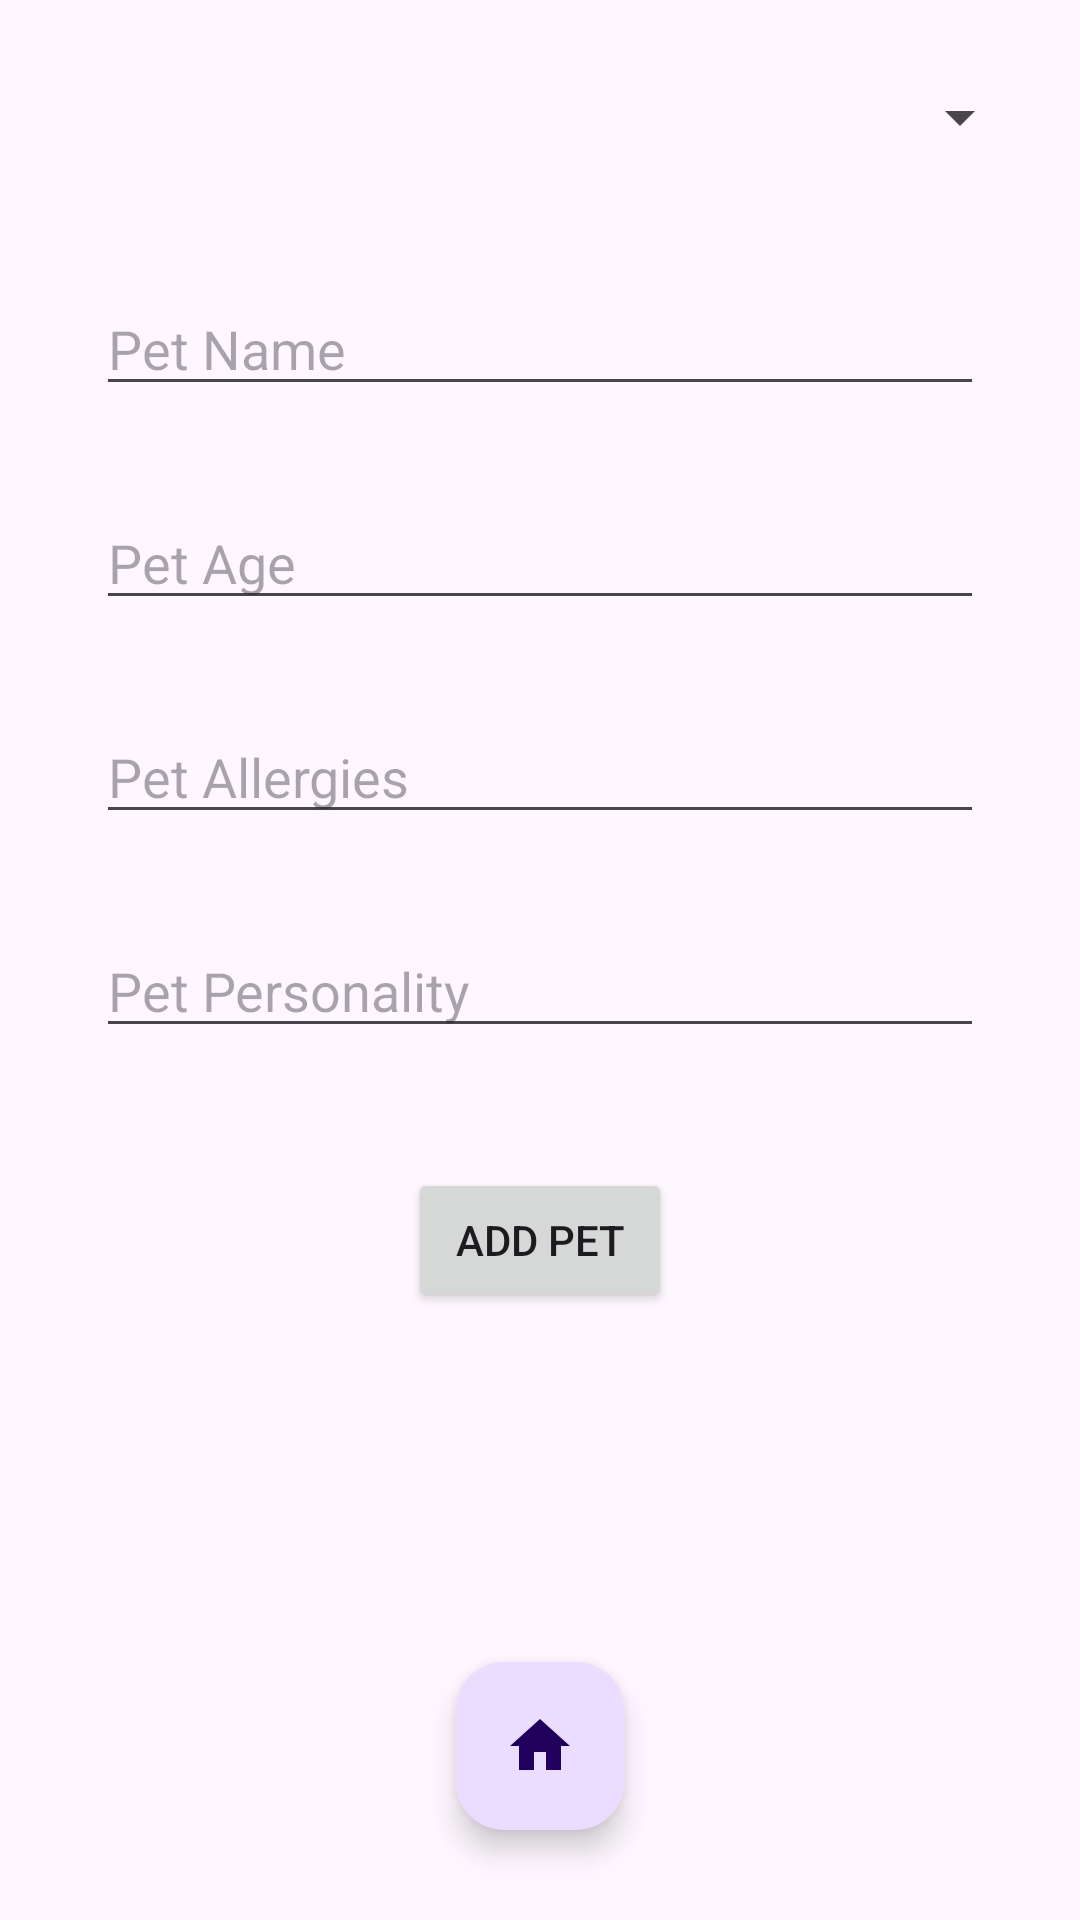

Named icons in this screenshot (1080px x 1920px) and their centers, point (x, y):
home: point (540, 1746)
